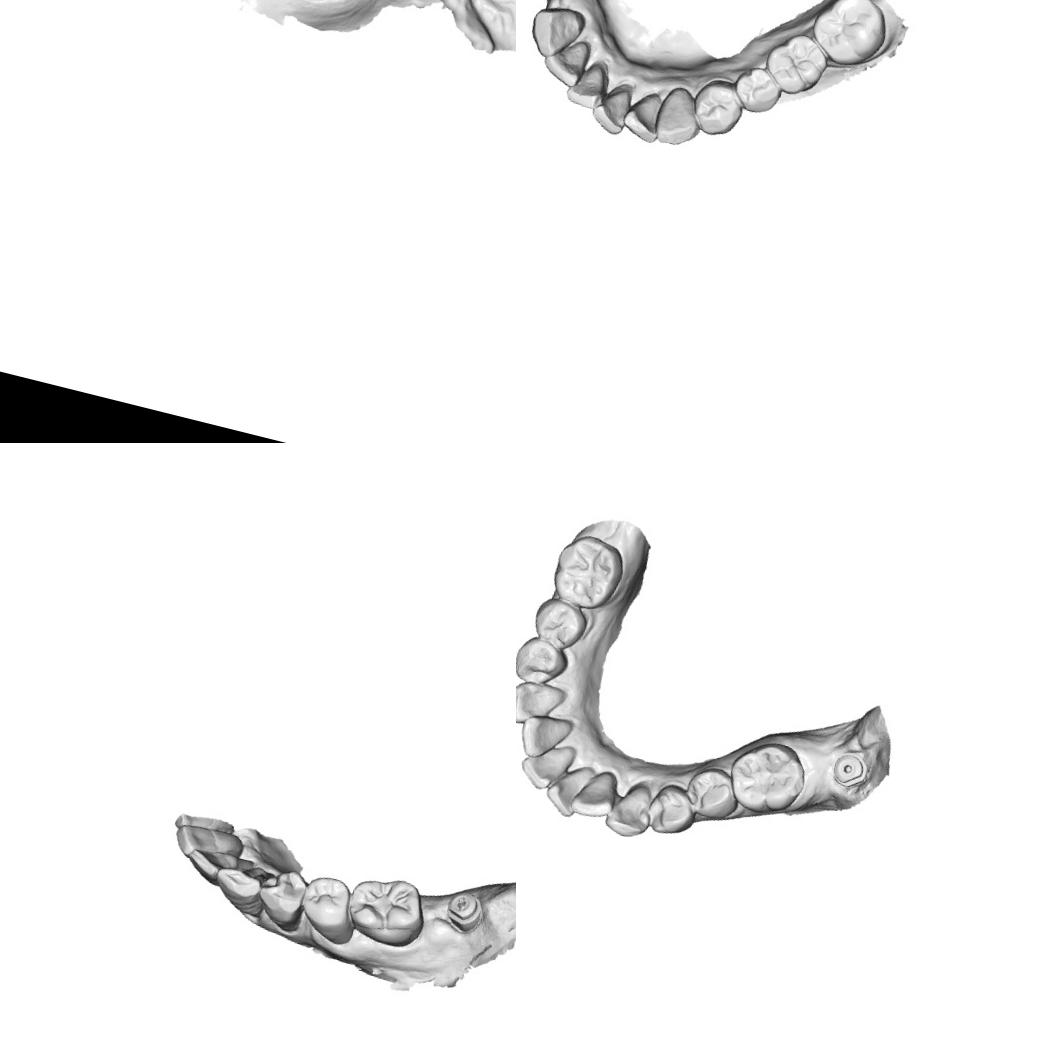canine: (207, 855, 274, 920), (523, 0, 588, 64), (650, 81, 708, 152), (602, 776, 658, 843), (516, 675, 568, 734)
implant: (828, 749, 872, 793)
implant_minus: (440, 888, 488, 936)
incisor: (180, 842, 257, 894), (170, 819, 247, 870), (516, 734, 578, 797), (540, 757, 596, 822), (562, 53, 616, 114), (538, 31, 593, 90), (567, 763, 622, 822), (618, 84, 667, 145), (516, 710, 570, 765), (585, 79, 634, 138)
molar: (720, 732, 812, 823), (340, 866, 434, 954), (546, 528, 630, 616), (804, 0, 895, 74), (757, 24, 833, 102)
premolar: (293, 870, 365, 947), (250, 862, 312, 934), (685, 73, 749, 142), (679, 760, 746, 824), (527, 593, 591, 654), (642, 779, 702, 840), (728, 60, 786, 118), (516, 631, 572, 691)
